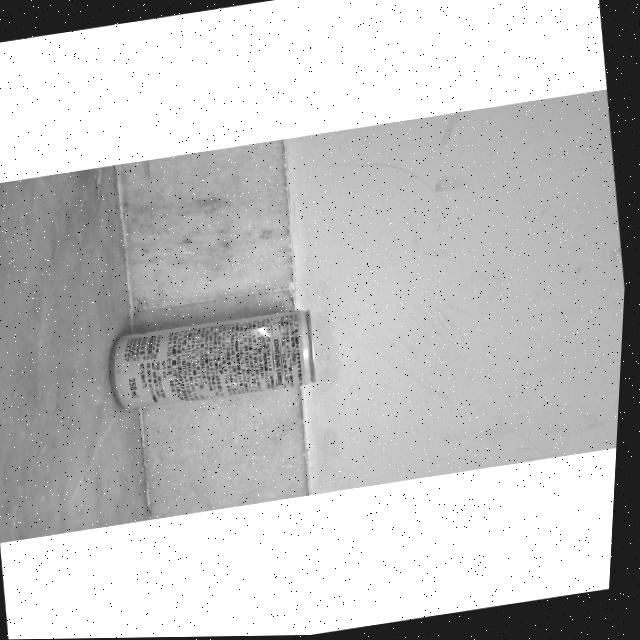Redbull Summer Edition: (98, 284, 342, 429)
